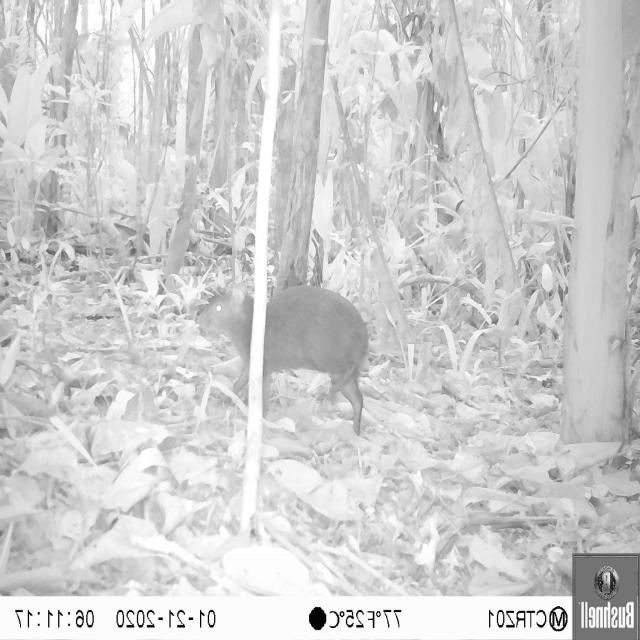Black Agouti: (190, 264, 386, 443)
